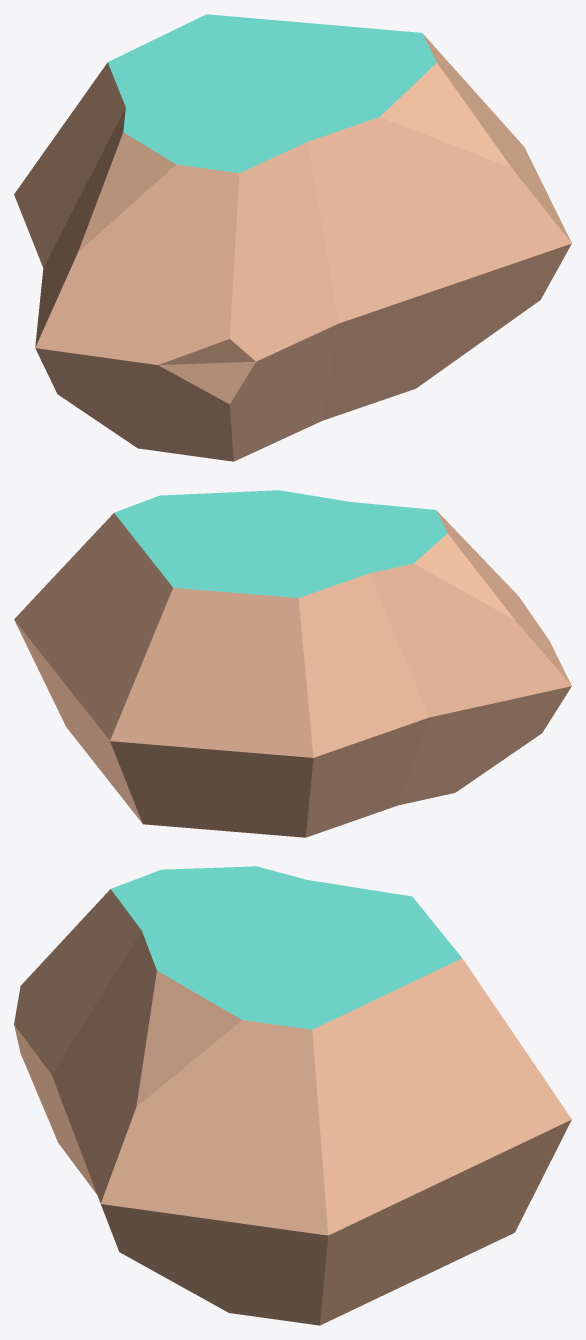
The model's file is rock_largeF.glb.
The picture shows the model from 3 angles, top to bottom: view 1: azimuth 30°, elevation 25°; view 2: azimuth 150°, elevation 25°; view 3: azimuth 270°, elevation 25°; orthographic projection. The views are drawn at different scales.
Parts seen in each view (by area): view 1: rock_largeF; view 2: rock_largeF; view 3: rock_largeF.
Part boxes in pixels (x1,y1,x2,y2): rock_largeF: [14, 14, 571, 461]; rock_largeF: [14, 490, 571, 837]; rock_largeF: [14, 866, 571, 1325].
Bounding box in the file's own units: 1.1 × 0.479 × 0.899.
Materials: 1 (1 with a texture image).
